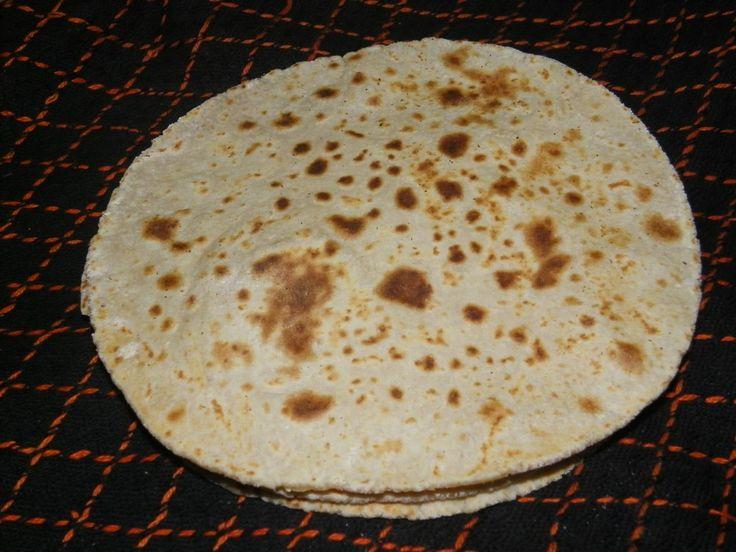roti phulka: (80, 37, 711, 518)
